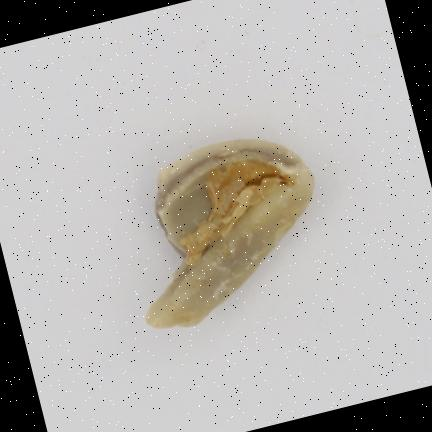shell: (147, 139, 313, 327)
